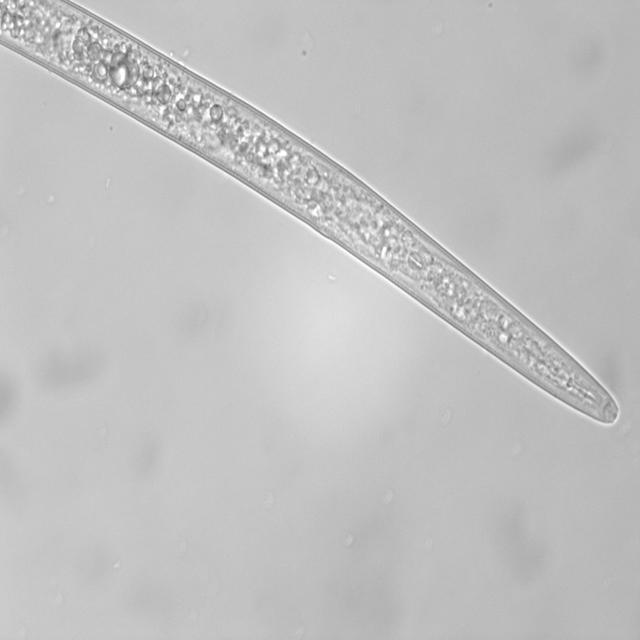Meloidogyne: (0, 0, 626, 432)
